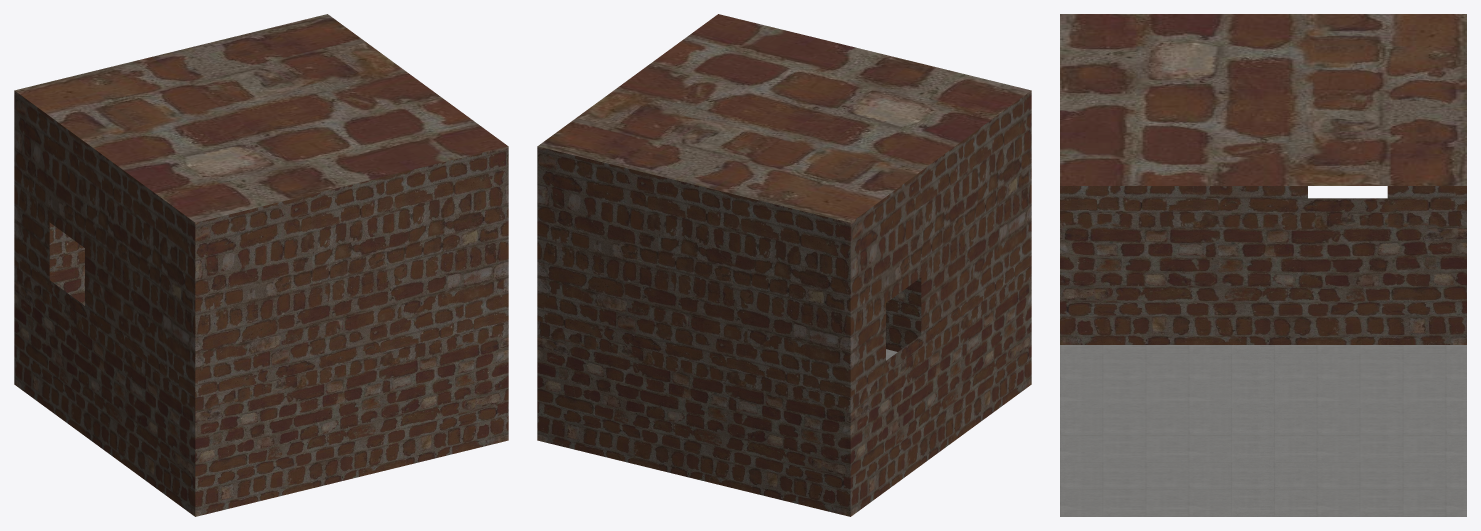
The picture shows the model from 3 angles, left to right: view 1: azimuth 30°, elevation 25°; view 2: azimuth 150°, elevation 25°; view 3: azimuth 270°, elevation 25°; orthographic projection. The views are drawn at different scales.
Parts seen in each view (by area): view 1: Cube; view 2: Cube; view 3: Cube.
Part boxes in pixels (box(x1,y1,x2,y2)): Cube: box(14, 14, 508, 516); Cube: box(537, 14, 1031, 516); Cube: box(1060, 14, 1466, 516).
Size of the model in its own units: 2.37 by 2.13 by 2.37.
Materials: 2 (2 with a texture image).
